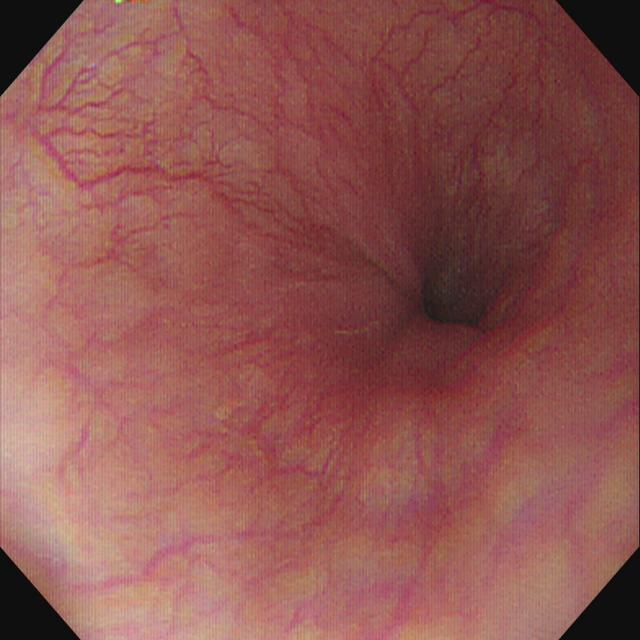E: (421, 273, 487, 331)
